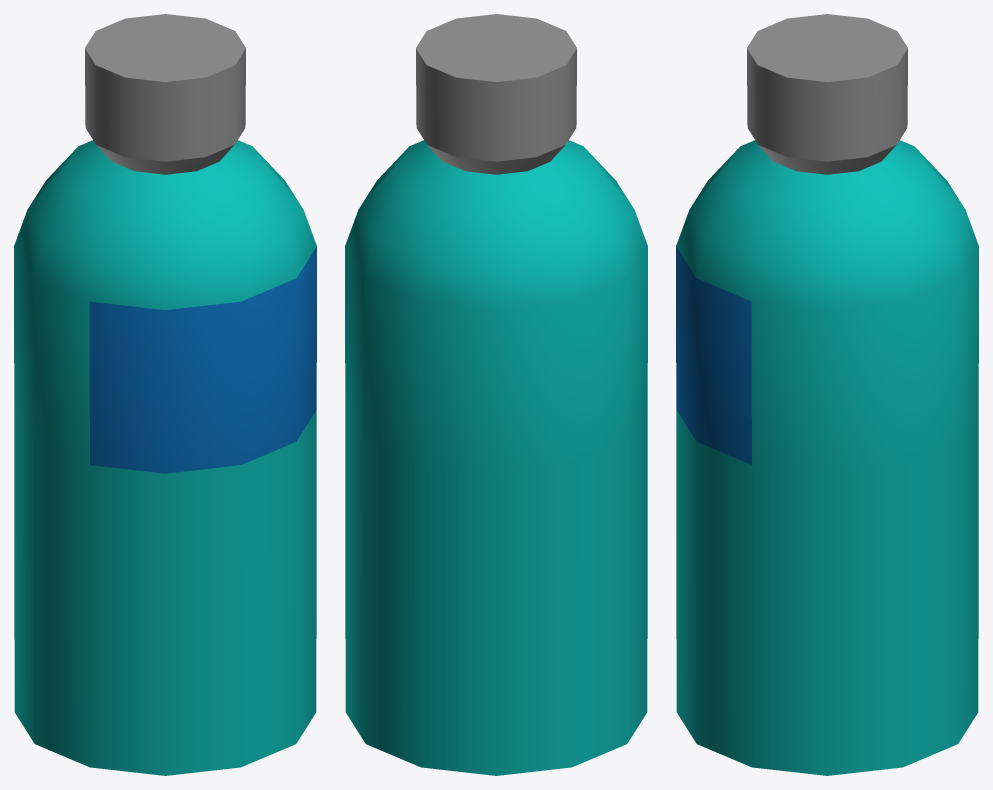
The model's file is bottle_drink_01.fbx.
3 renders of one model, left to right at view 1: azimuth 30°, elevation 25°; view 2: azimuth 150°, elevation 25°; view 3: azimuth 270°, elevation 25°, orthographic.
Visible parts, largest first — view 1: bottle_drink_01; view 2: bottle_drink_01; view 3: bottle_drink_01.
Part boxes in pixels (x1,y1,x2,y2): bottle_drink_01: [14, 14, 316, 775]; bottle_drink_01: [345, 14, 647, 775]; bottle_drink_01: [676, 14, 978, 775].
Size of the model in its own units: 28.62 by 69.24 by 28.62.
